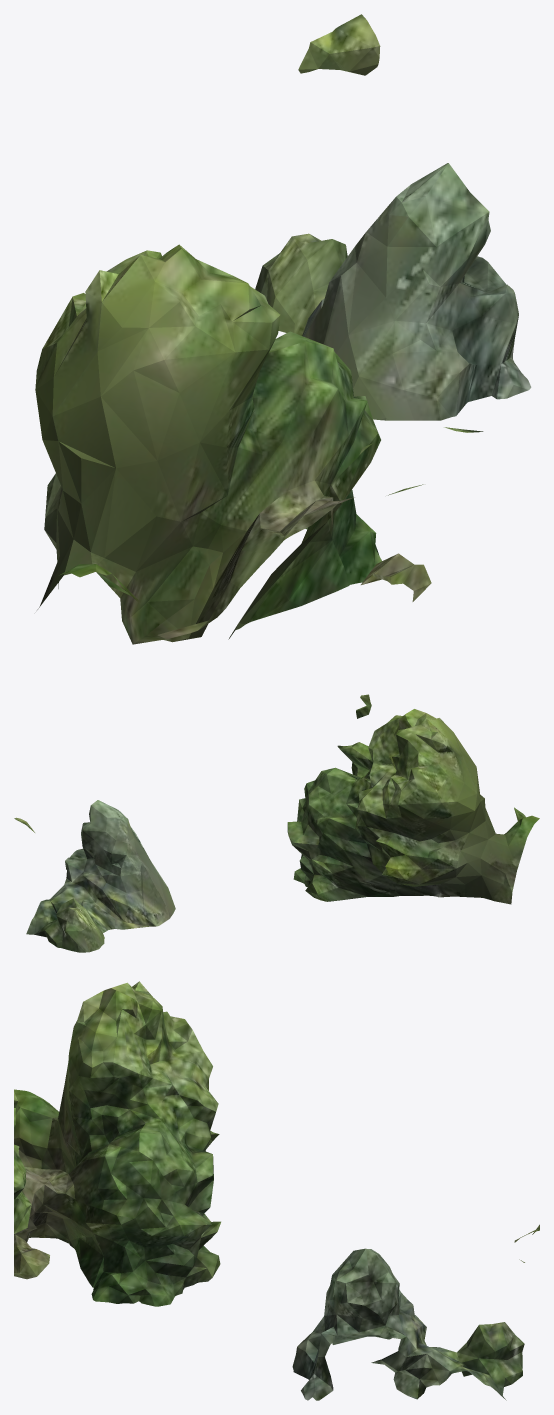
3 renders of one model, top to bottom at view 1: azimuth 30°, elevation 25°; view 2: azimuth 150°, elevation 25°; view 3: azimuth 270°, elevation 25°, orthographic. The views are drawn at different scales.
Bounding box in the file's own units: 26.11 × 13.51 × 26.11.
2 materials, 2 textured.
